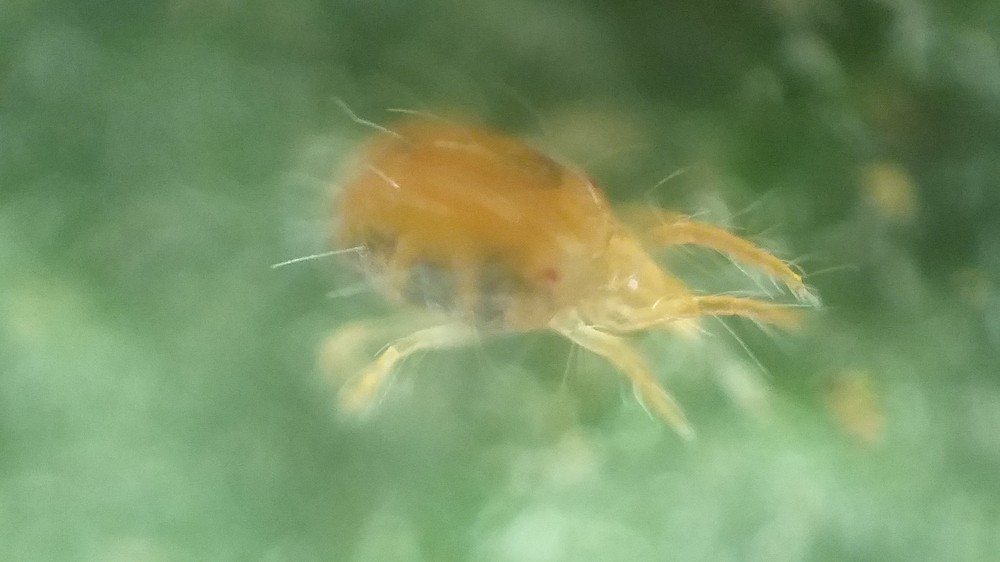Aracnido Rojo: (262, 93, 846, 456)
